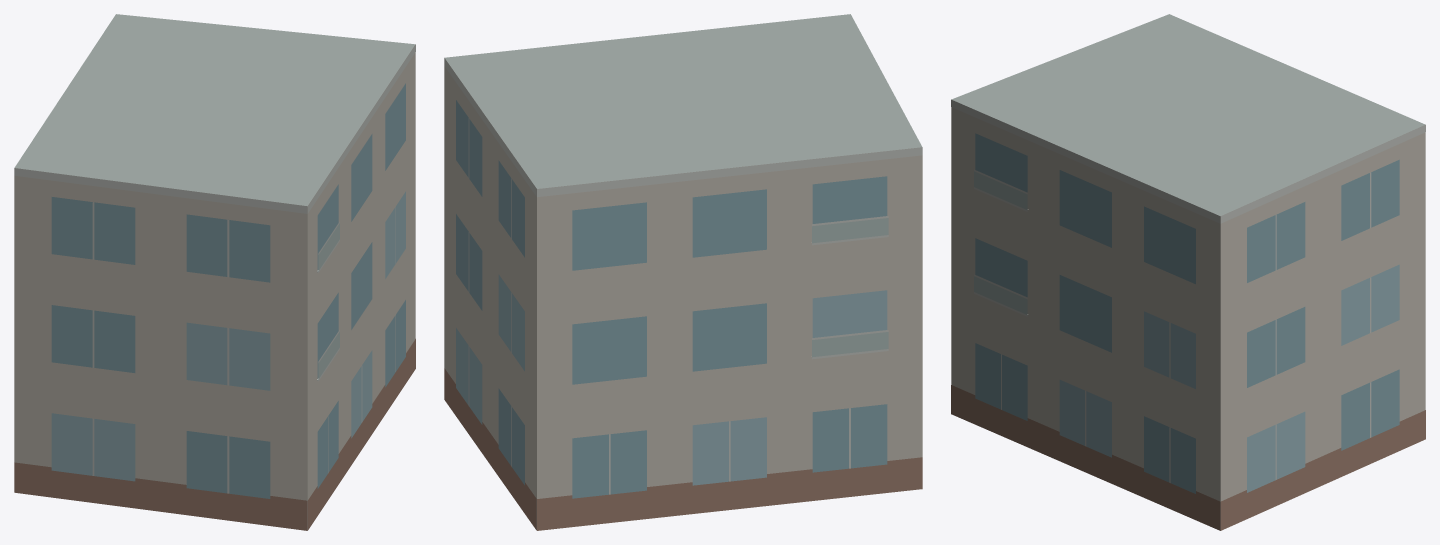
File: survey-upis-32590296.glb
The picture shows the model from 3 angles, left to right: view 1: azimuth 30°, elevation 25°; view 2: azimuth 150°, elevation 25°; view 3: azimuth 270°, elevation 25°; orthographic projection. The views are drawn at different scales.
Parts seen in each view (by area): view 1: survey-upis-32590296.tmp; view 2: survey-upis-32590296.tmp; view 3: survey-upis-32590296.tmp.
Boxes of the visible parts, x1,y1,x2,y2 form: survey-upis-32590296.tmp: [14, 14, 415, 530]; survey-upis-32590296.tmp: [444, 14, 922, 530]; survey-upis-32590296.tmp: [951, 14, 1425, 530].
Size of the model in its own units: 14.07 by 10.2 by 13.95.
